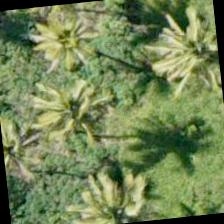Kelapa_Sawit: (20, 64, 119, 163), (18, 0, 116, 98), (148, 3, 222, 99), (64, 172, 160, 223)
